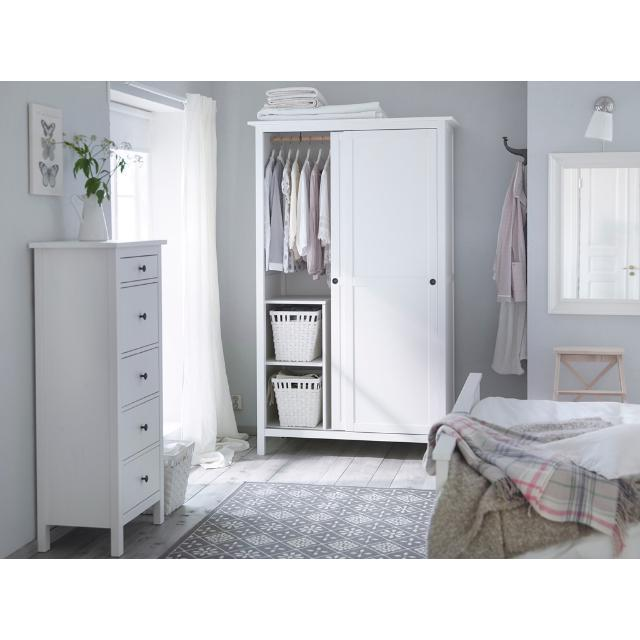bed: (424, 374, 640, 558)
curtain: (181, 94, 239, 454)
dresser: (249, 118, 458, 455), (30, 240, 165, 556)
lamp: (585, 96, 614, 142)
rug: (162, 482, 435, 558)
stool: (552, 346, 628, 403)
wall-art: (29, 104, 64, 196)
